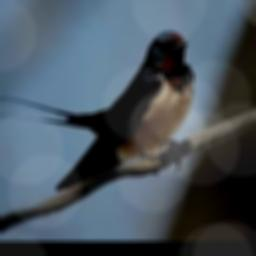Swallow: (0, 30, 194, 192)
